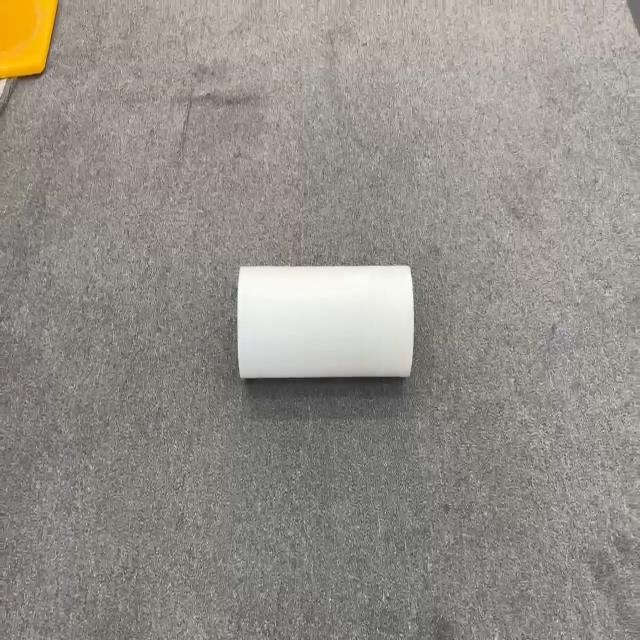coral: (236, 262, 414, 380)
